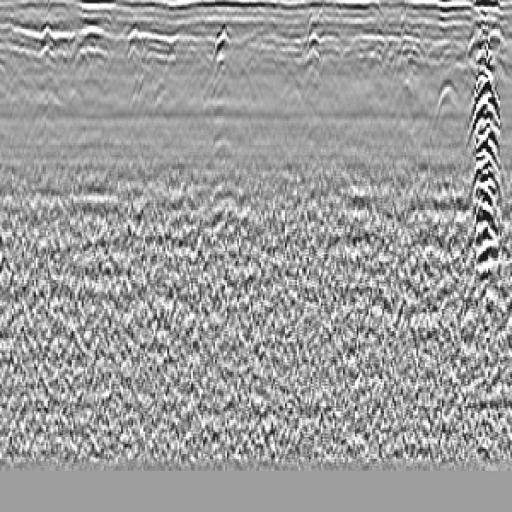metalic: (456, 18, 512, 346)
nonmetalic: (421, 67, 477, 155)
